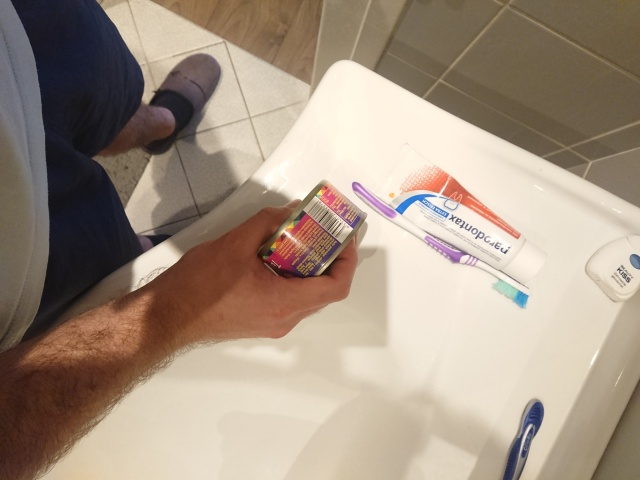Giana Tuna Salad Mexico 185g: (253, 176, 370, 294)
